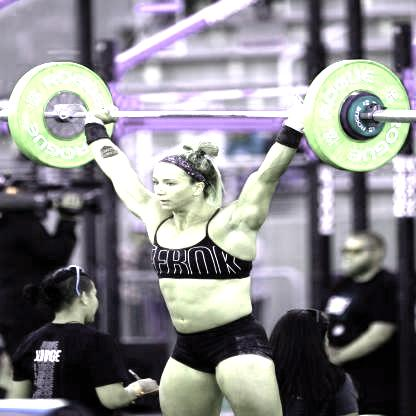barbell: (312, 59, 412, 173), (16, 62, 118, 170)
